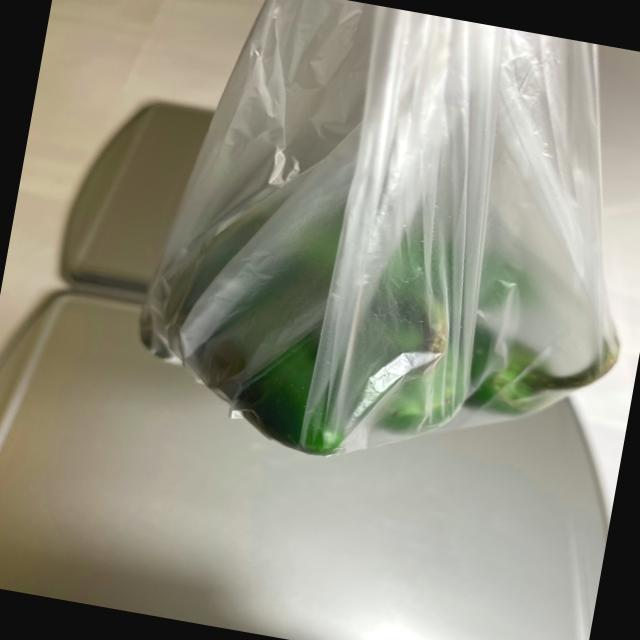chilli: (100, 138, 638, 506)
